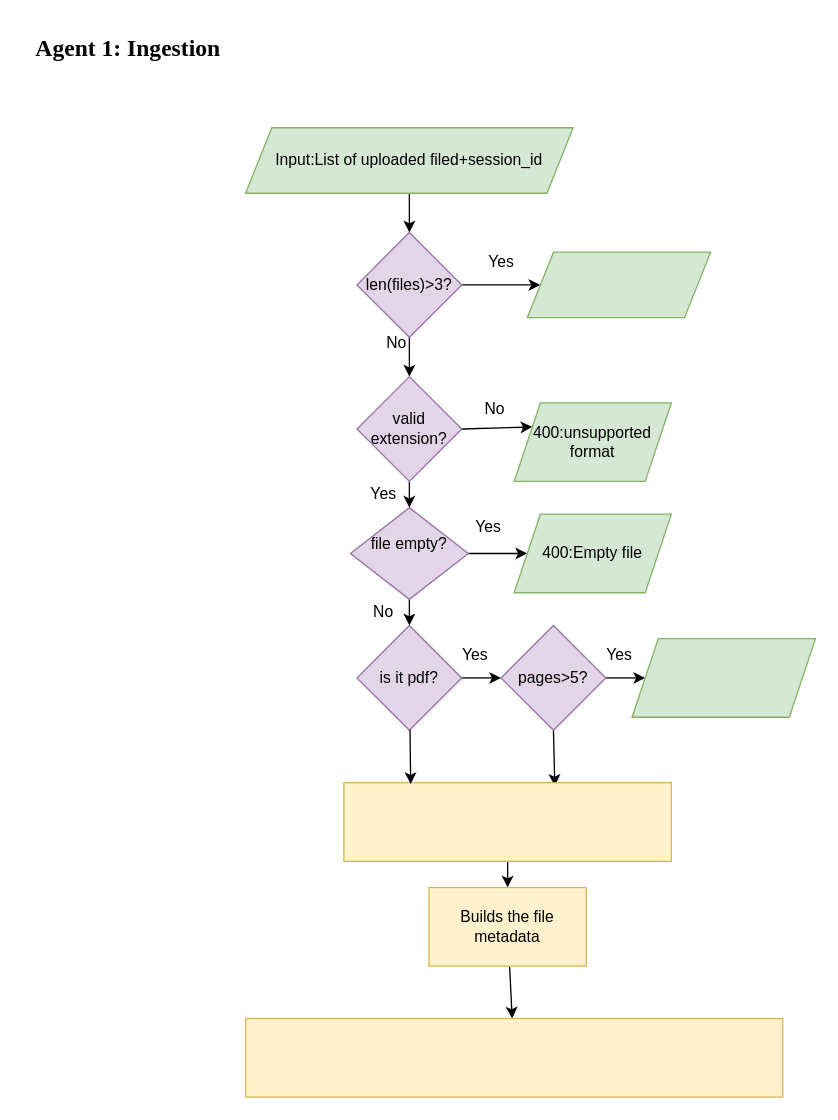
This 838x1120 diagram has some shape labels left out. The box of each missing label's shape, as (x1, y1, x2, y2) in pixels:
400: Too many files: (526, 251, 711, 318)
400:Too many pages: (631, 637, 815, 717)
Output: Agent1Contract{ sessionid; status;timestamp;files[]}: (244, 1017, 783, 1097)
seek(0)-resets the pointer for all files(pdf+images): (343, 781, 671, 861)
